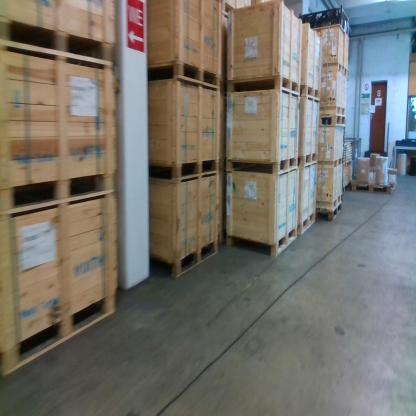pallet: (348, 176, 393, 201), (314, 203, 343, 227), (318, 112, 348, 132), (387, 177, 397, 192)
stillage: (297, 3, 354, 40), (339, 133, 359, 181), (349, 135, 362, 167)
